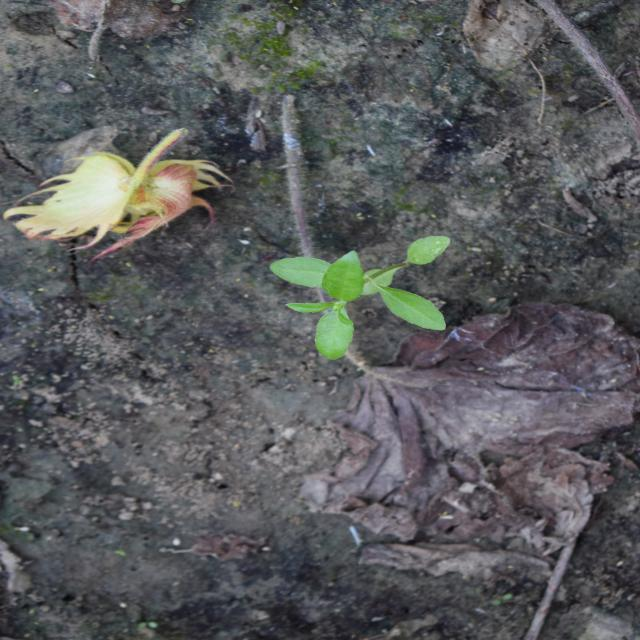Eclipta: (266, 235, 454, 361)
